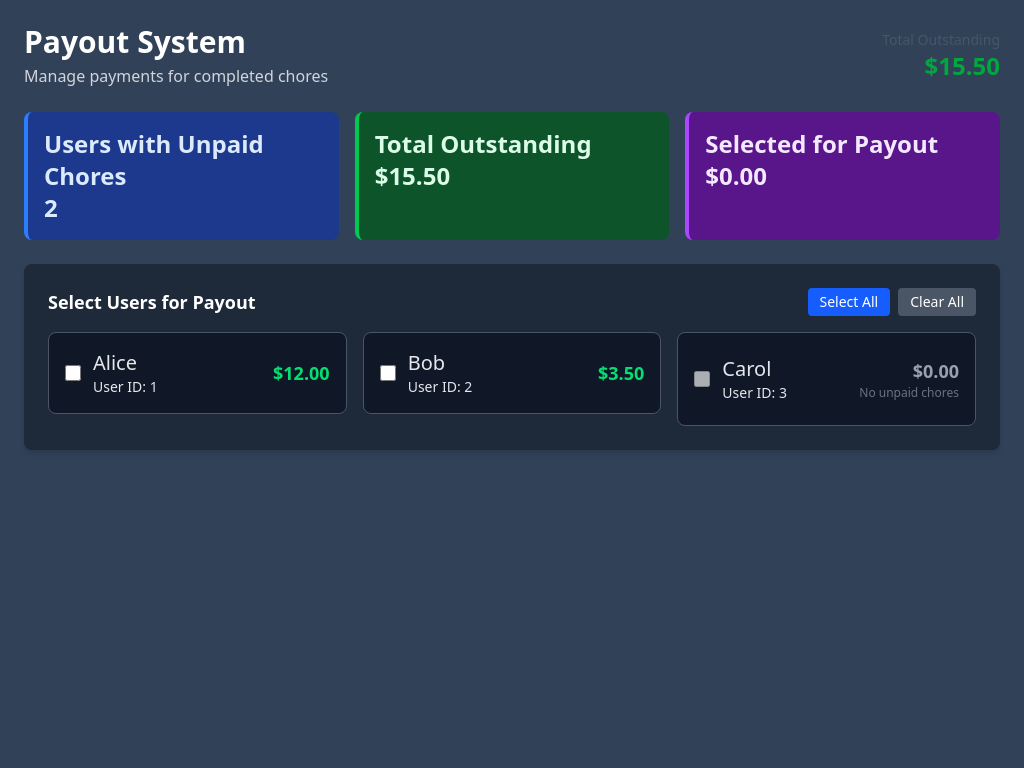
Test: AdminPayoutSystem summary figures › updates the selected-users subtotal as selection changes, in integer cents
Expected: the heading "Payout System" is shown, 24,21 -> 246,62
Click the checkbox next to "Alice" at (73, 373), box 65,365 -> 81,381
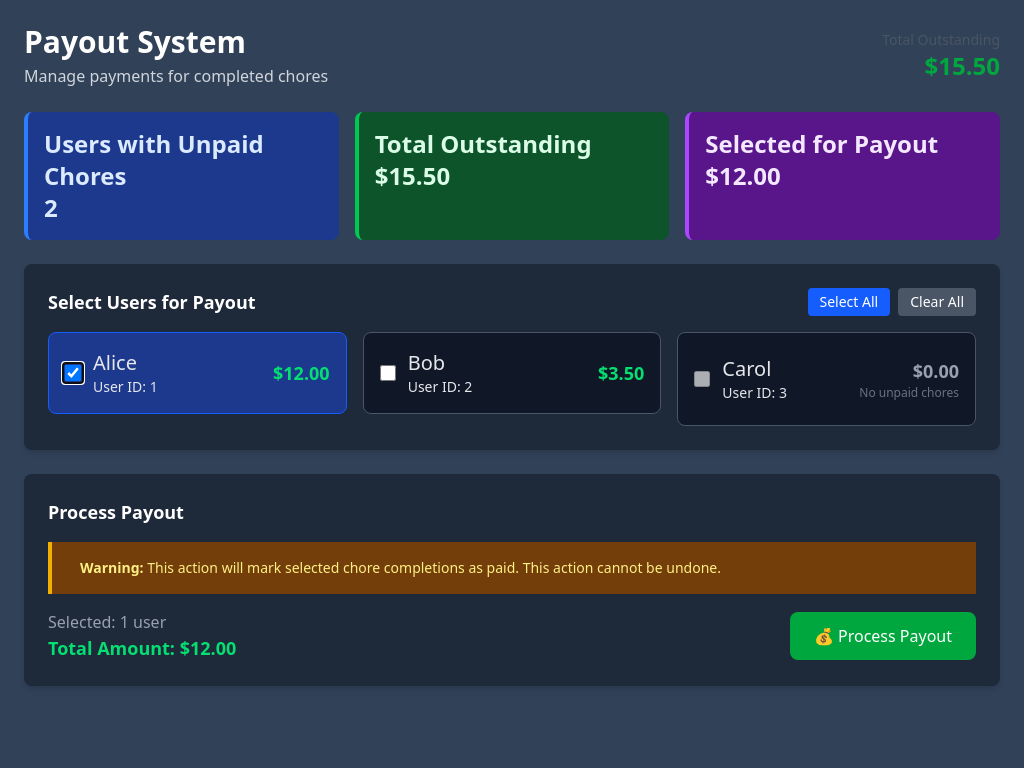
Expected: the text "$12.00" below "Selected for Payout" is shown, 705,159 -> 781,192
Click the checkbox next to "Bob" at (388, 373), box 380,365 -> 396,381
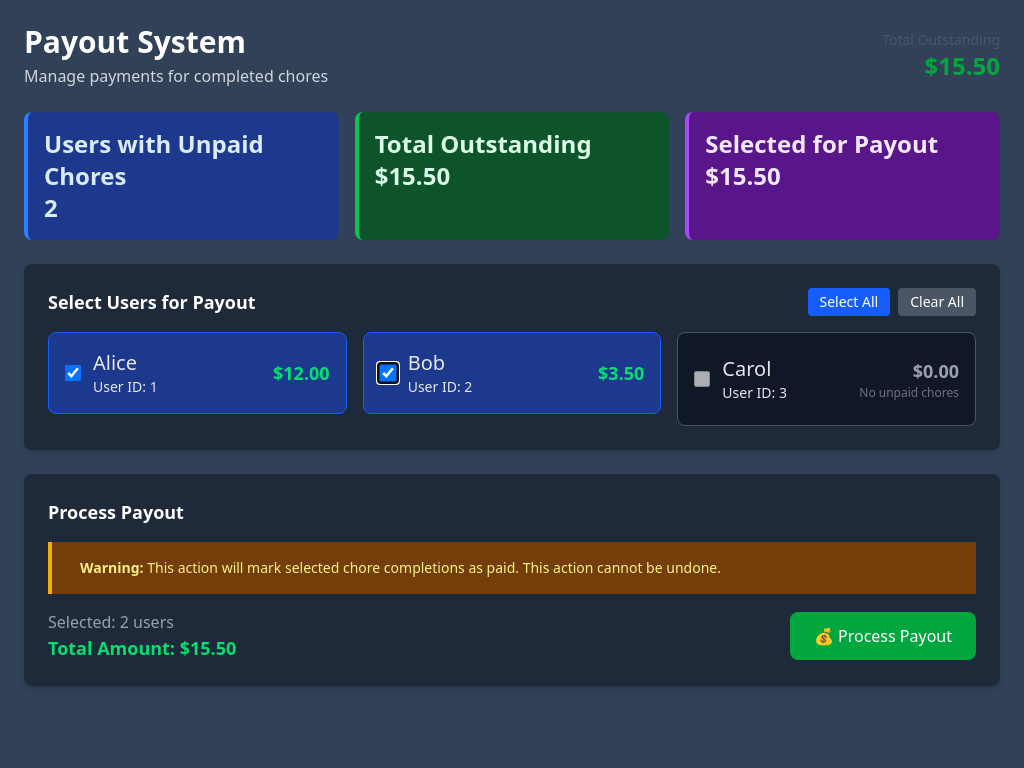
Expected: the text "$15.50" below "Selected for Payout" is shown, 705,159 -> 781,192
Click the checkbox next to "Alice" at (73, 373), box 65,365 -> 81,381
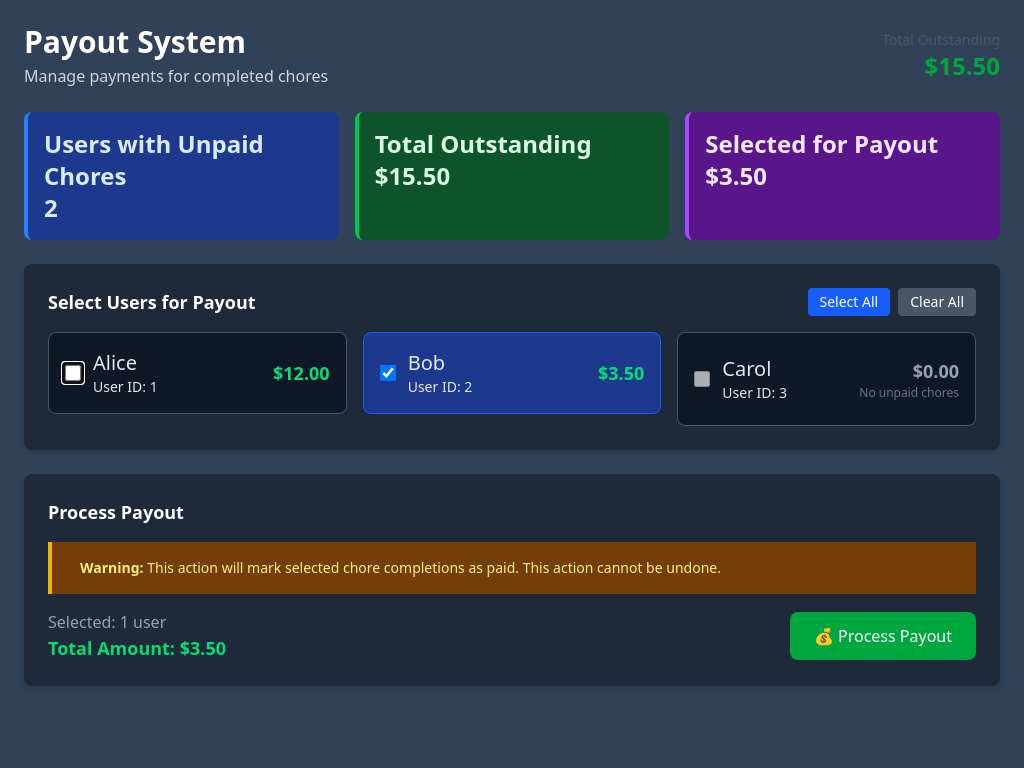
Expected: the text "$3.50" below "Selected for Payout" is shown, 705,159 -> 767,192
